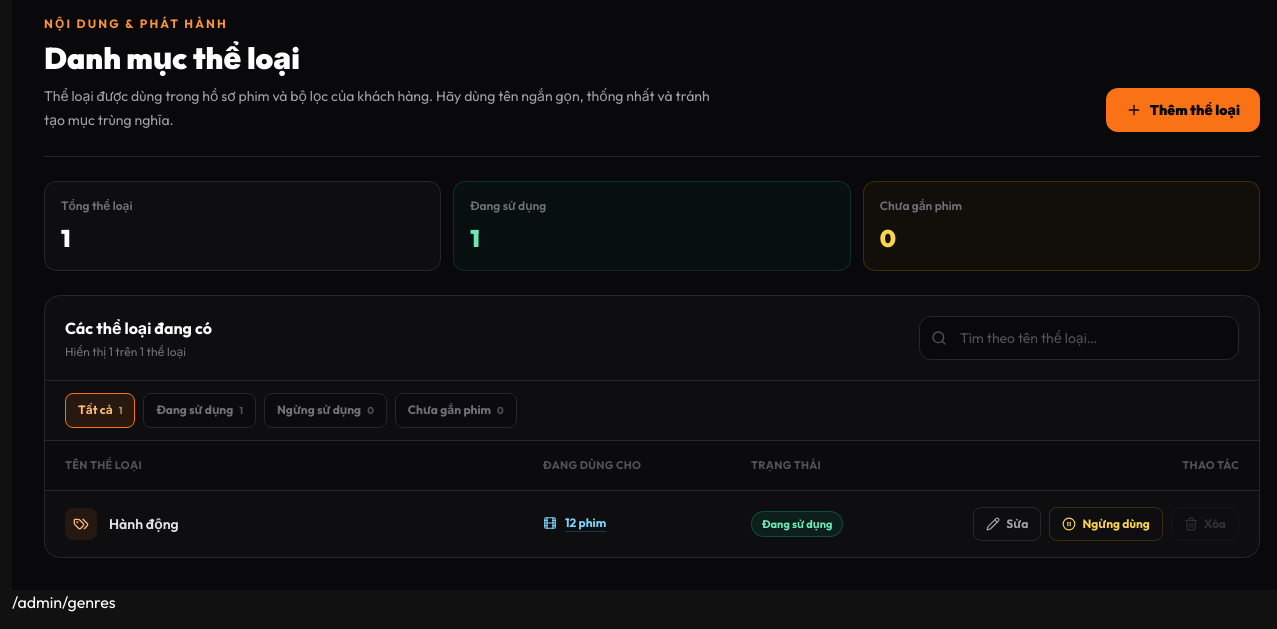
it: AdminGenrePage › shows usage and status so operators can understand the impact
This screenshot has width=1277, height=629.
Expected: the text "Đang sử dụng" in the row of "Tổng thể loại" is shown, top-left (470, 198), bottom-right (546, 213)
Expected: the button with test id "delete-genre-genre-1" is disabled, top-left (1171, 506), bottom-right (1239, 540)
Click the button "12 phim". click: (575, 522)
box: top-left (543, 514), bottom-right (606, 530)
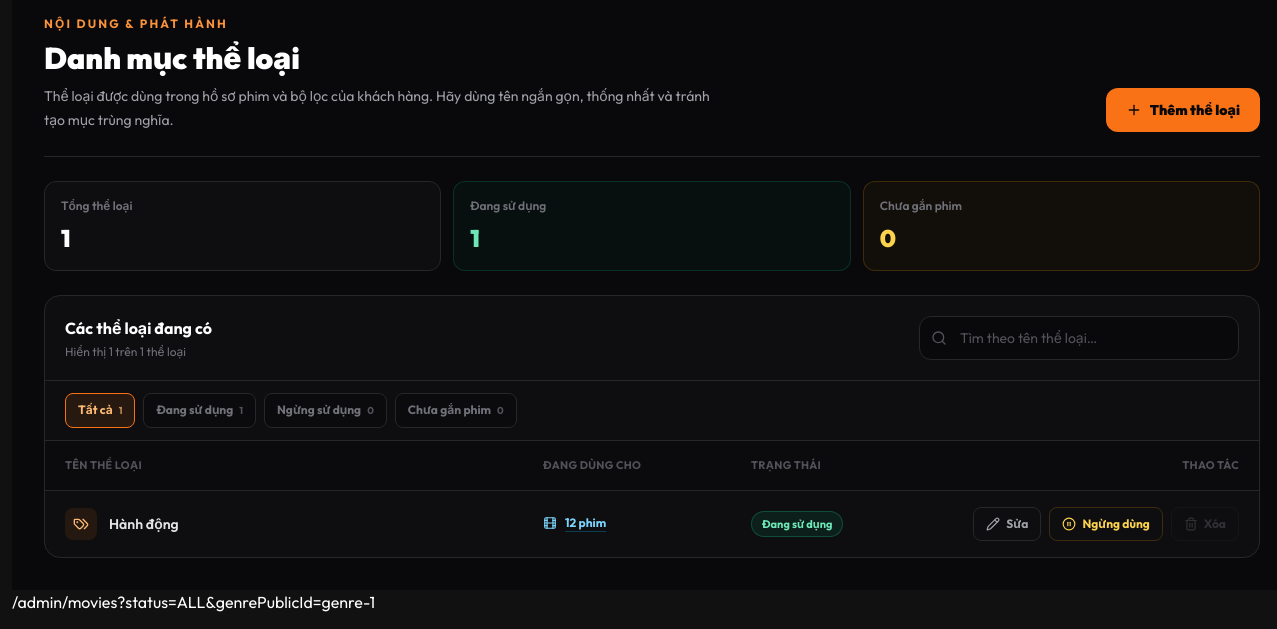
Result: the text with test id "current-location" reads "/admin/movies?status=ALL&genrePublicId=genre-1" at top-left (12, 592), bottom-right (375, 612)
